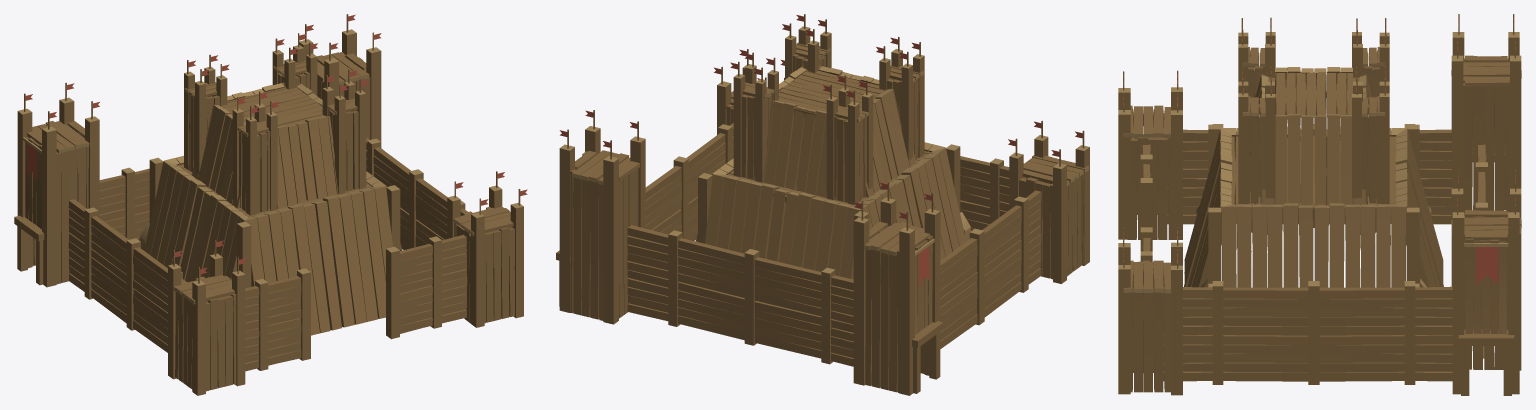
Rendered from Wooden Fortress.glb.
The picture shows the model from 3 angles, left to right: view 1: azimuth 30°, elevation 25°; view 2: azimuth 150°, elevation 25°; view 3: azimuth 270°, elevation 25°; orthographic projection. The views are drawn at different scales.
Visible parts, largest first — view 1: Wonder_FirstAge_Level2; view 2: Wonder_FirstAge_Level2; view 3: Wonder_FirstAge_Level2.
Boxes of the visible parts, x1,y1,x2,y2 form: Wonder_FirstAge_Level2: (14, 14, 527, 395); Wonder_FirstAge_Level2: (556, 14, 1089, 395); Wonder_FirstAge_Level2: (1118, 14, 1521, 395).
Bounding box in the file's own units: 2.2 × 1.36 × 1.95.
